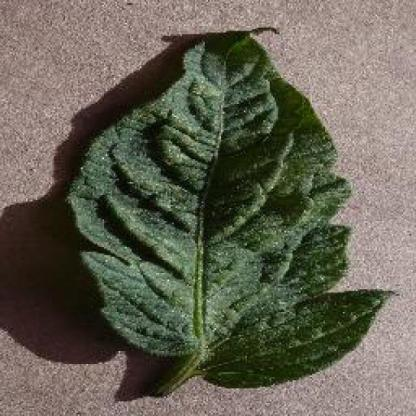Tomato_Spider_Mites: (70, 27, 399, 384)
